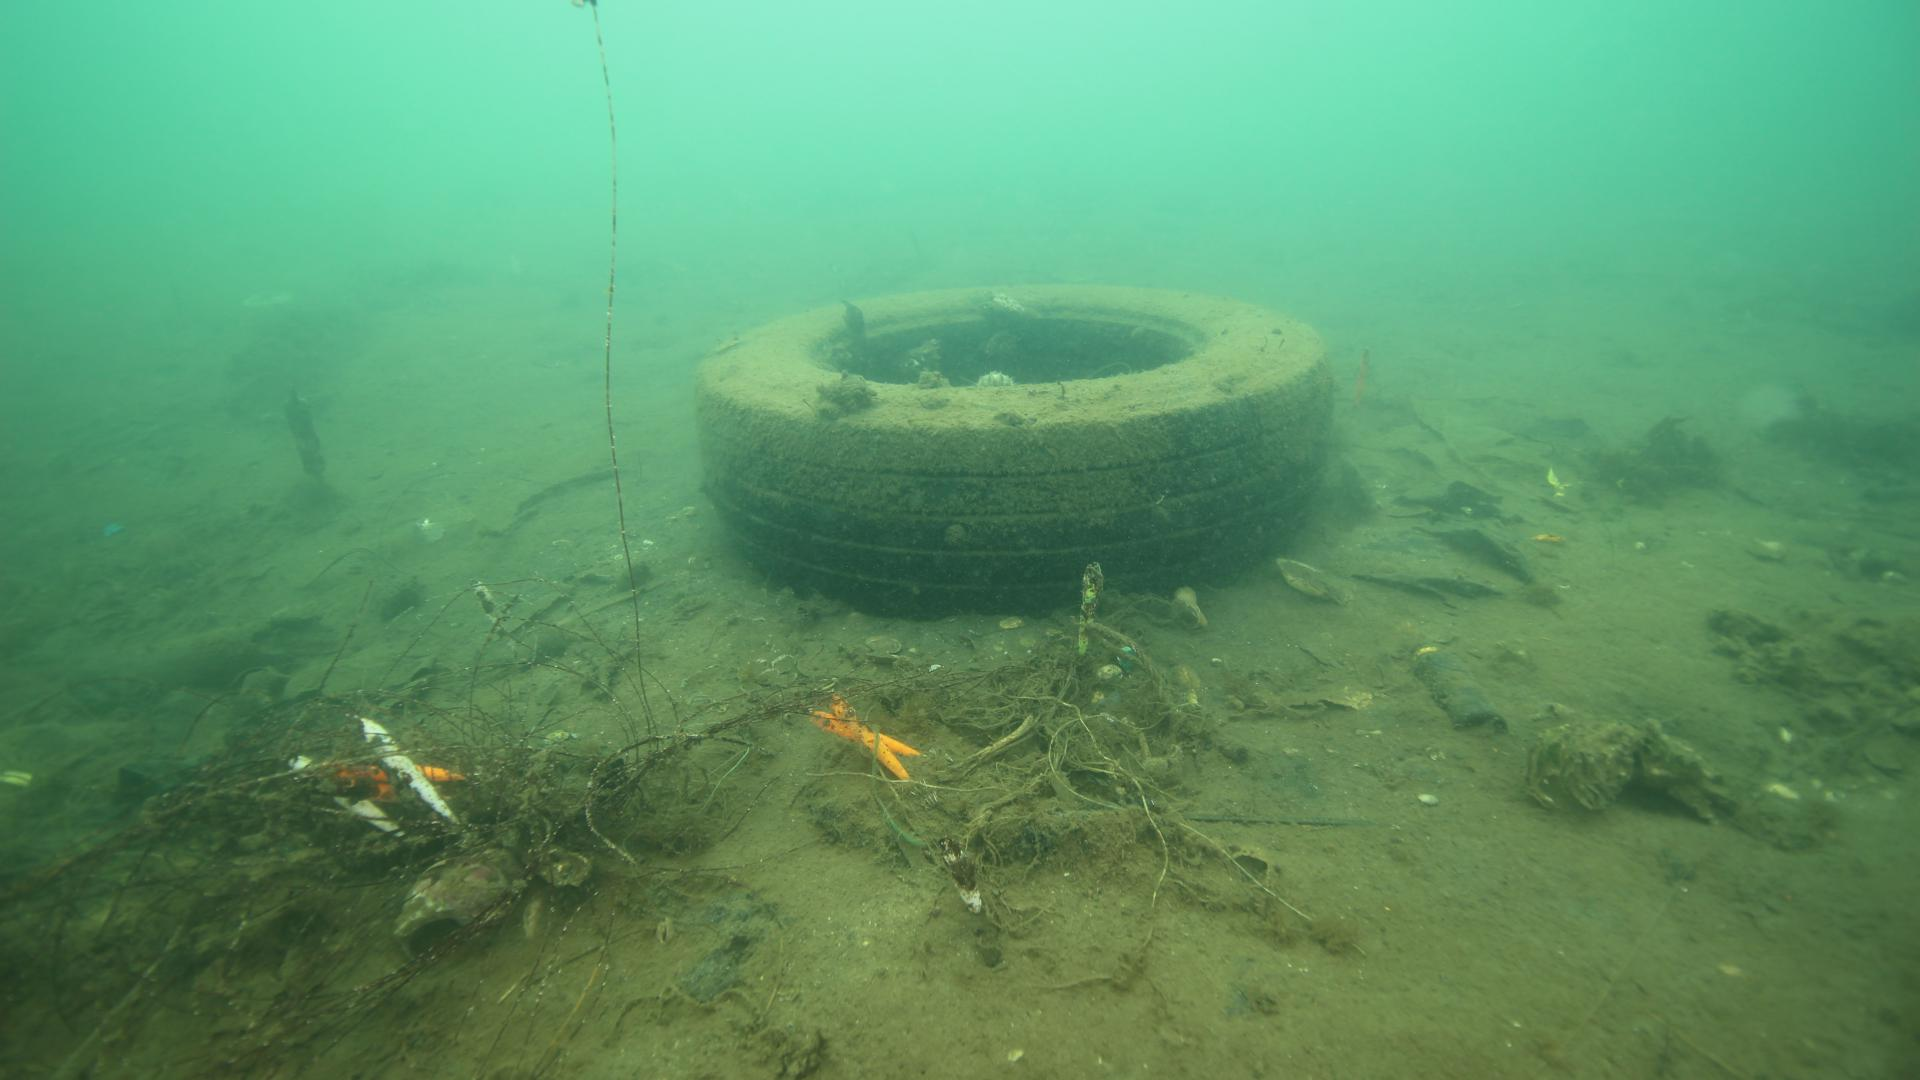tire: (691, 274, 1323, 618)
